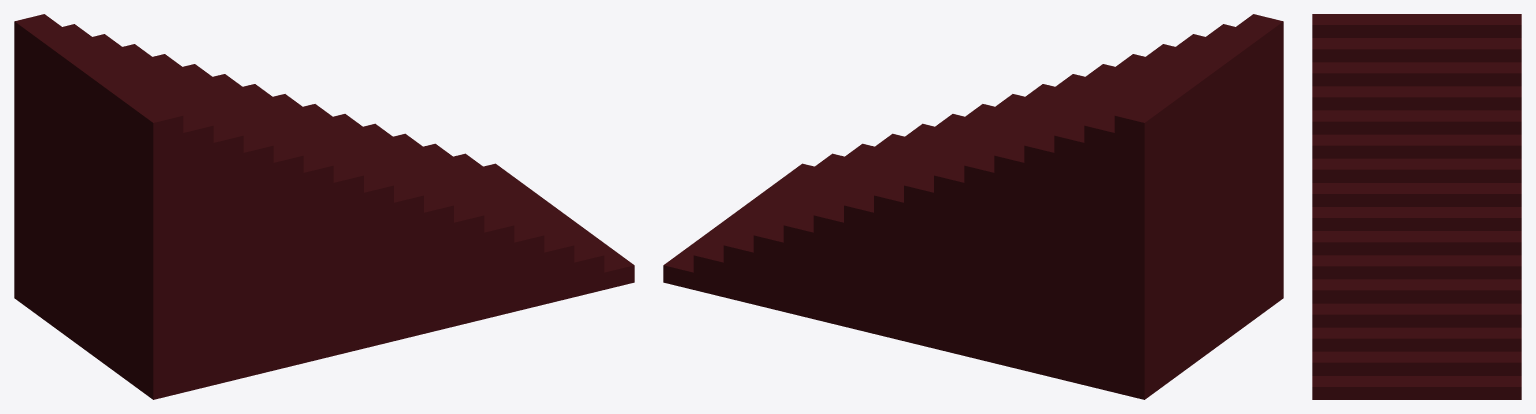
Rendered from Stairs02.fbx.
3 views of the same model, side by side, from view 1: azimuth 30°, elevation 25°; view 2: azimuth 150°, elevation 25°; view 3: azimuth 270°, elevation 25° (orthographic). The views are drawn at different scales.
Parts seen in each view (by area): view 1: Stairs; view 2: Stairs; view 3: Stairs.
Part boxes in pixels (x1,y1,x2,y2): Stairs: (14,14,634,399); Stairs: (663,14,1283,399); Stairs: (1312,14,1521,399).
Size of the model in its own units: 400 by 220 by 200.
